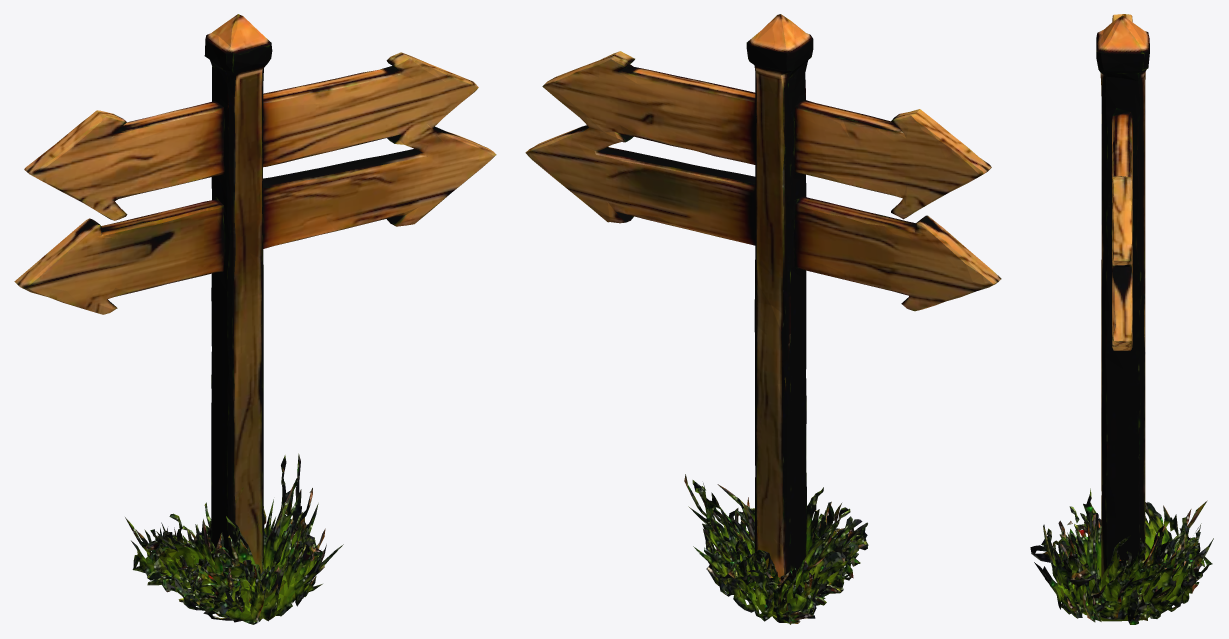
The model's file is village_signpost_01.glb.
3 renders of one model, left to right at view 1: azimuth 30°, elevation 25°; view 2: azimuth 150°, elevation 25°; view 3: azimuth 270°, elevation 25°, orthographic.
Parts seen in each view (by area): view 1: geometry_0; view 2: geometry_0; view 3: geometry_0.
Boxes of the visible parts, left/top/right/bottom form: geometry_0: left=14, top=14, right=496, bottom=624; geometry_0: left=525, top=14, right=1001, bottom=624; geometry_0: left=1030, top=14, right=1213, bottom=624.
Bounding box in the file's own units: 0.8373 × 1 × 0.2794.
1 material, 1 textured.
